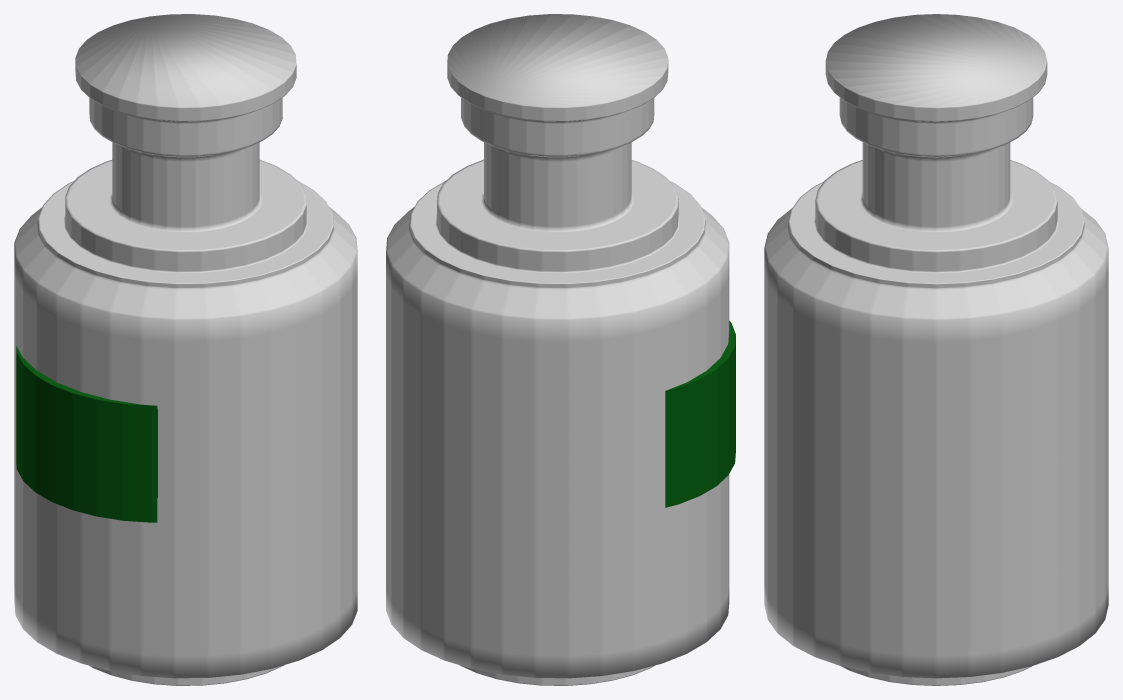
File: Med3.fbx
3 renders of one model, left to right at view 1: azimuth 30°, elevation 25°; view 2: azimuth 150°, elevation 25°; view 3: azimuth 270°, elevation 25°, orthographic.
Parts seen in each view (by area): view 1: Cylinder, Cylinder.001; view 2: Cylinder, Cylinder.001; view 3: Cylinder.
Boxes of the visible parts, x1,y1,x2,y2 form: Cylinder: (14, 14, 357, 685); Cylinder.001: (16, 346, 157, 522); Cylinder: (386, 14, 729, 685); Cylinder.001: (665, 320, 735, 507); Cylinder: (764, 14, 1108, 685).
Size of the model in its own units: 11.77 by 21.21 by 11.54.
